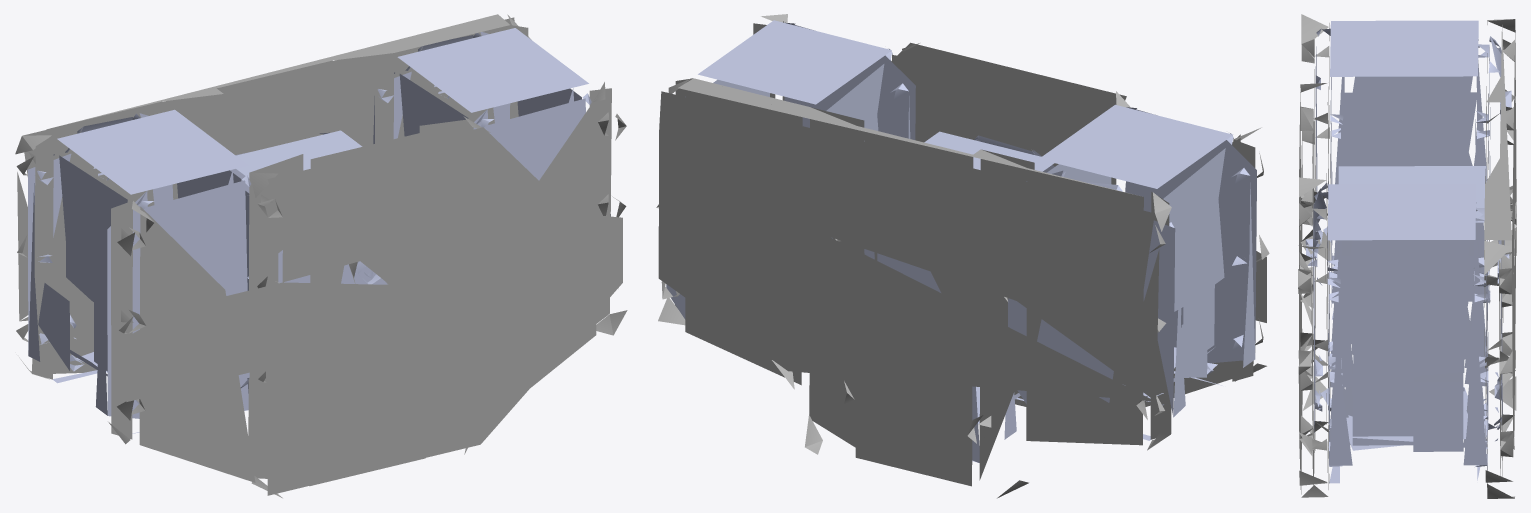
Rendered from part_15_opt.obj.
3 views of the same model, side by side, from view 1: azimuth 30°, elevation 25°; view 2: azimuth 150°, elevation 25°; view 3: azimuth 270°, elevation 25° (orthographic). The views are drawn at different scales.
Parts seen in each view (by area): view 1: Cut_Extrude39_DC_Shell, NONE_DC_Shell, Fillet1_DC_Shell; view 2: Fillet1_DC_Shell, NONE_DC_Shell, Cut_Extrude39_DC_Shell; view 3: NONE_DC_Shell, Fillet1_DC_Shell, Cut_Extrude39_DC_Shell.
Boxes of the visible parts, box(x1,y1,x2,y2) form: Cut_Extrude39_DC_Shell: box(108, 82, 627, 498); NONE_DC_Shell: box(27, 28, 610, 433); Fillet1_DC_Shell: box(15, 14, 531, 379); Fillet1_DC_Shell: box(656, 78, 1171, 498); NONE_DC_Shell: box(666, 20, 1256, 462); Cut_Extrude39_DC_Shell: box(753, 14, 1269, 406); NONE_DC_Shell: box(1305, 20, 1511, 483); Fillet1_DC_Shell: box(1484, 19, 1516, 498); Cut_Extrude39_DC_Shell: box(1298, 14, 1330, 497).
Bounding box in the file's own units: 109 × 67.89 × 41.44.
